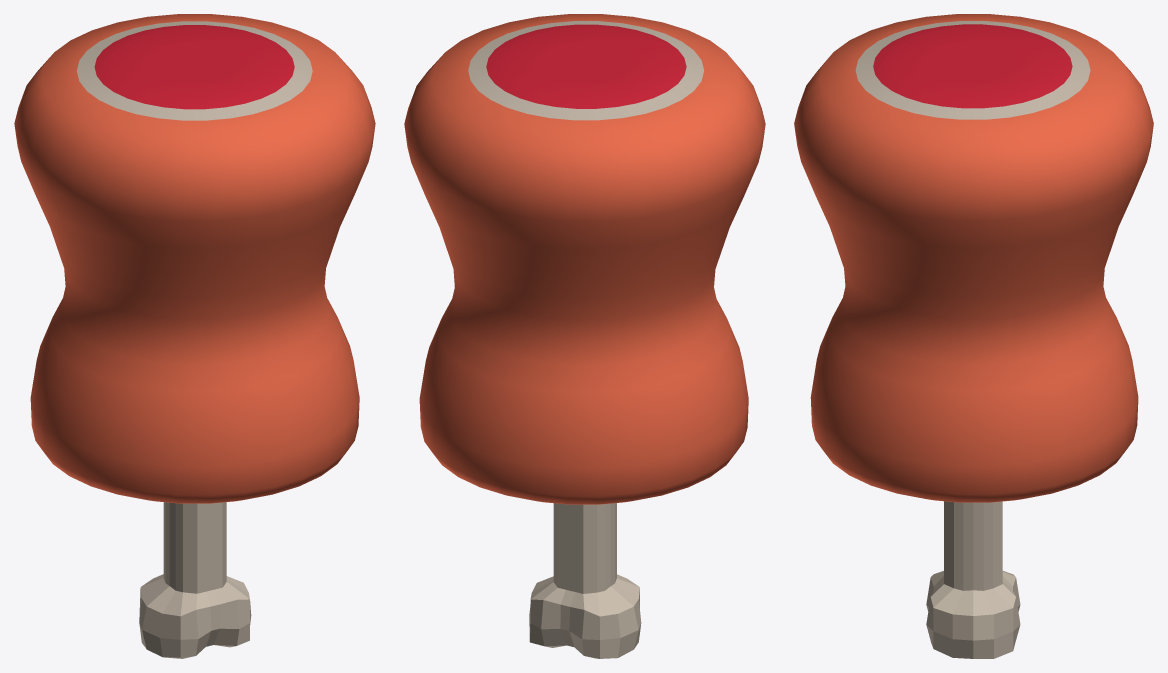
The model's file is meat bone.fbx.
The picture shows the model from 3 angles, left to right: view 1: azimuth 30°, elevation 25°; view 2: azimuth 150°, elevation 25°; view 3: azimuth 270°, elevation 25°; orthographic projection.
Parts seen in each view (by area): view 1: Cylinder; view 2: Cylinder; view 3: Cylinder.
Part boxes in pixels (x1=…): Cylinder: x1=14, y1=14, x2=375, y2=658; Cylinder: x1=404, y1=14, x2=765, y2=658; Cylinder: x1=794, y1=14, x2=1153, y2=658.
Size of the model in its own units: 222 by 398 by 223.
